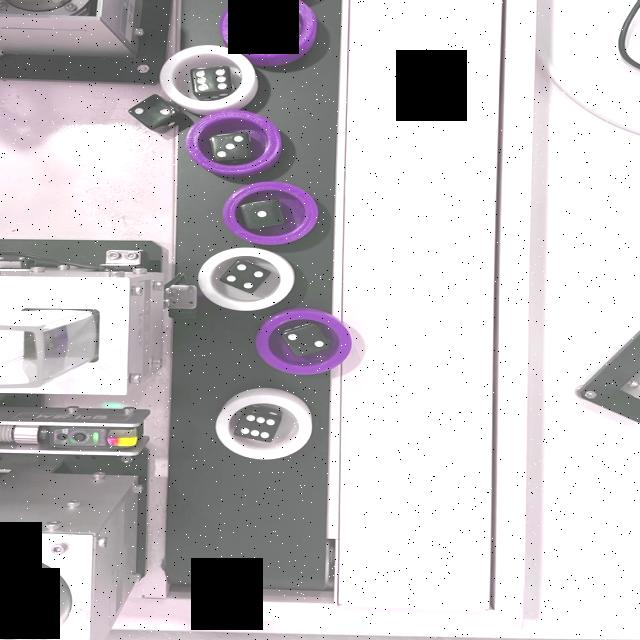DICE1: (247, 11, 280, 39), (245, 205, 278, 227)
DICE2: (284, 329, 326, 356), (130, 102, 176, 125)
DICE3: (205, 132, 255, 162)
DICE4: (224, 262, 268, 294)
DICE6: (190, 68, 234, 96), (236, 414, 278, 442)
RedChip: (183, 110, 284, 176), (252, 308, 350, 374), (223, 183, 315, 246), (223, 0, 320, 58)
WhiteChip: (212, 388, 314, 460), (160, 44, 256, 112), (200, 247, 296, 311)
